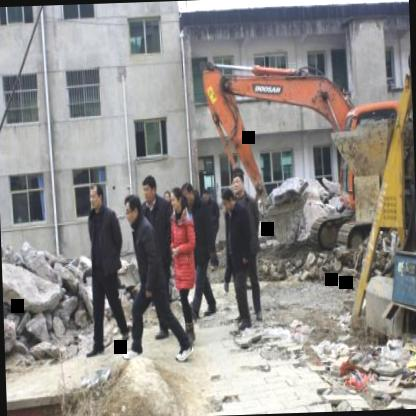head: (124, 194, 145, 230), (142, 172, 160, 206), (87, 181, 105, 214), (220, 187, 236, 217), (231, 168, 246, 199), (168, 186, 184, 214), (182, 180, 196, 209)
